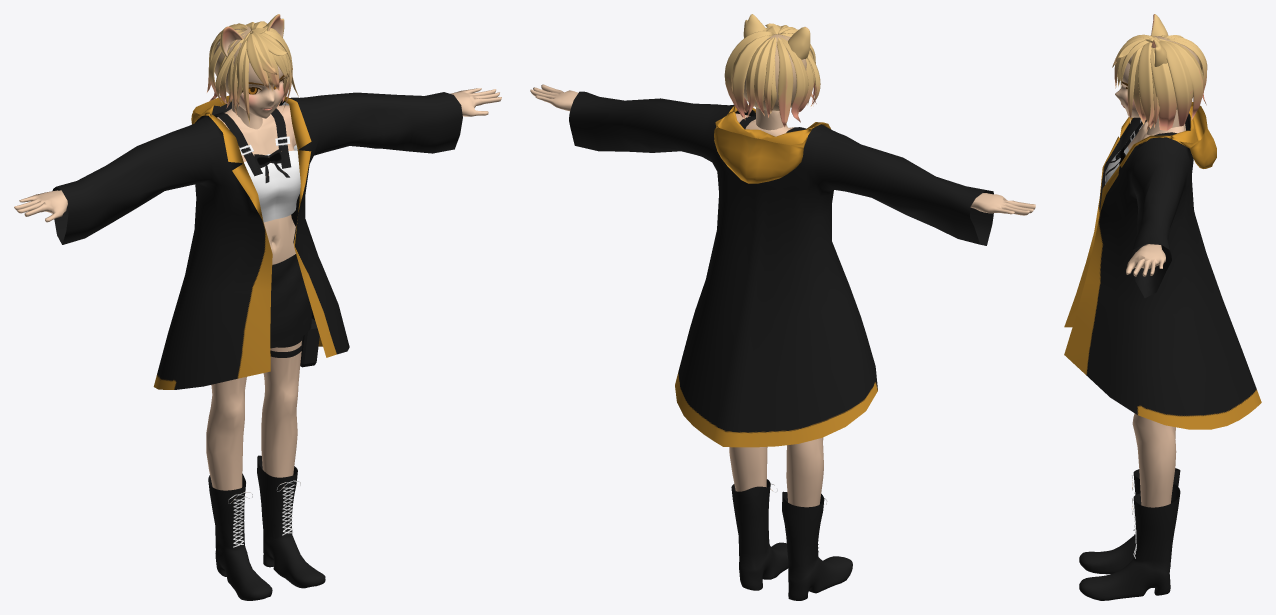
3 views of the same model, side by side, from view 1: azimuth 30°, elevation 25°; view 2: azimuth 150°, elevation 25°; view 3: azimuth 270°, elevation 25° (orthographic). The views are drawn at different scales.
Visible parts, largest first — view 1: パーカーHIGH.004, 体.006, 体.008, 髪統合.003, 服.005, スカート.005, 耳.003, 2レッグベルト.003, 体.007; view 2: パーカーHIGH.004, 体.008, 髪統合.003, 体.006, 耳.003; view 3: パーカーHIGH.004, 体.008, 髪統合.003, 体.006, 耳.003, 服.005.
Part boxes in pixels (left/top/right/bottom): パーカーHIGH.004: left=52, top=92, right=462, bottom=389; 体.006: left=14, top=88, right=501, bottom=490; 体.008: left=208, top=455, right=325, bottom=600; 髪統合.003: left=207, top=21, right=298, bottom=124; 服.005: left=213, top=102, right=300, bottom=222; スカート.005: left=270, top=254, right=312, bottom=348; 耳.003: left=220, top=14, right=284, bottom=118; 2レッグベルト.003: left=270, top=318, right=319, bottom=367; 体.007: left=228, top=480, right=300, bottom=547; パーカーHIGH.004: left=569, top=91, right=993, bottom=447; 体.008: left=731, top=479, right=852, bottom=600; 髪統合.003: left=724, top=23, right=820, bottom=127; 体.006: left=530, top=84, right=1035, bottom=507; 耳.003: left=743, top=14, right=810, bottom=107; パーカーHIGH.004: left=1064, top=101, right=1261, bottom=429; 体.008: left=1079, top=468, right=1180, bottom=600; 髪統合.003: left=1112, top=34, right=1207, bottom=131; 体.006: left=1126, top=110, right=1185, bottom=507; 耳.003: left=1115, top=14, right=1168, bottom=117; 服.005: left=1105, top=119, right=1187, bottom=184.
Bounding box in the file's own units: 1.47 × 1.6 × 0.516.
Materials: 13 (13 with a texture image).
